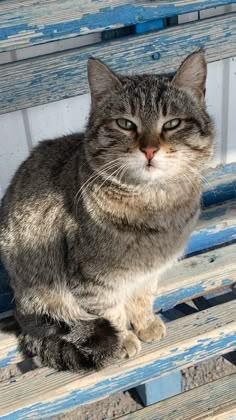kedo: (0, 56, 211, 355)
